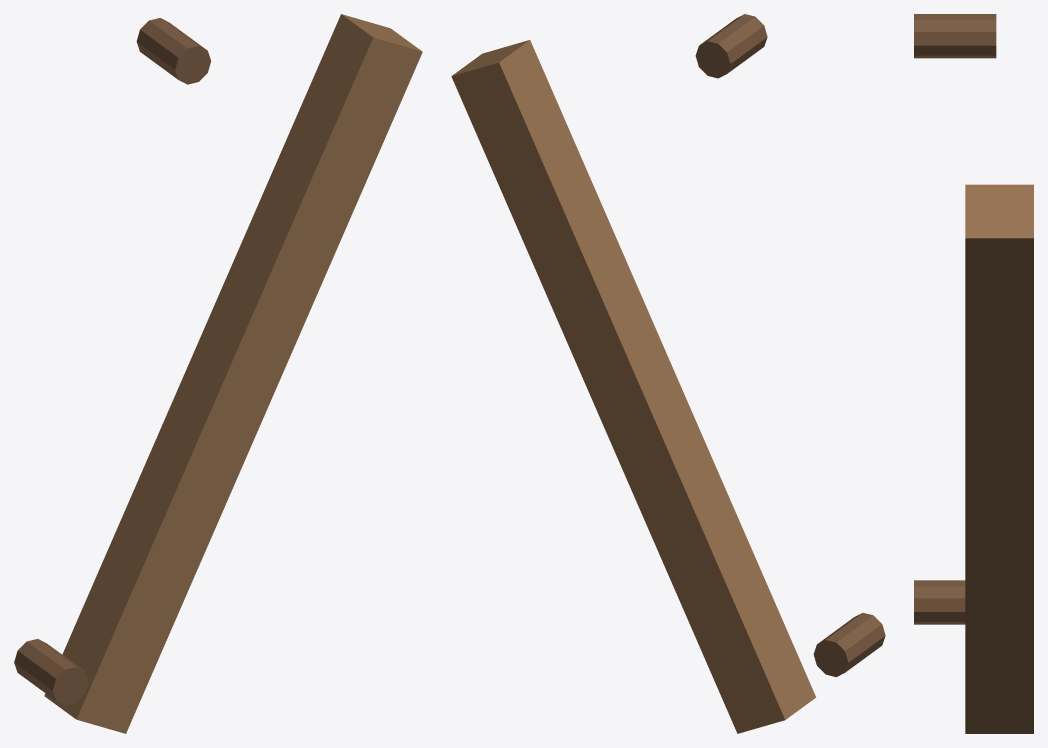
File: timber_brace_detail.glb
3 renders of one model, left to right at view 1: azimuth 30°, elevation 25°; view 2: azimuth 150°, elevation 25°; view 3: azimuth 270°, elevation 25°, orthographic. The views are drawn at different scales.
Visible parts, largest first — view 1: timber_brace_detail_0, timber_brace_detail_1, timber_brace_detail_2; view 2: timber_brace_detail_0, timber_brace_detail_2, timber_brace_detail_1; view 3: timber_brace_detail_0, timber_brace_detail_2, timber_brace_detail_1.
Part boxes in pixels (<box>): timber_brace_detail_0: <box>44,14,422,733</box>; timber_brace_detail_1: <box>14,639,88,705</box>; timber_brace_detail_2: <box>136,18,210,84</box>; timber_brace_detail_0: <box>451,40,816,733</box>; timber_brace_detail_2: <box>695,14,767,78</box>; timber_brace_detail_1: <box>813,613,885,677</box>; timber_brace_detail_0: <box>965,184,1033,733</box>; timber_brace_detail_2: <box>914,14,996,58</box>; timber_brace_detail_1: <box>914,580,965,624</box>.
Bounding box in the file's own units: 1.42 × 2.38 × 0.35.
